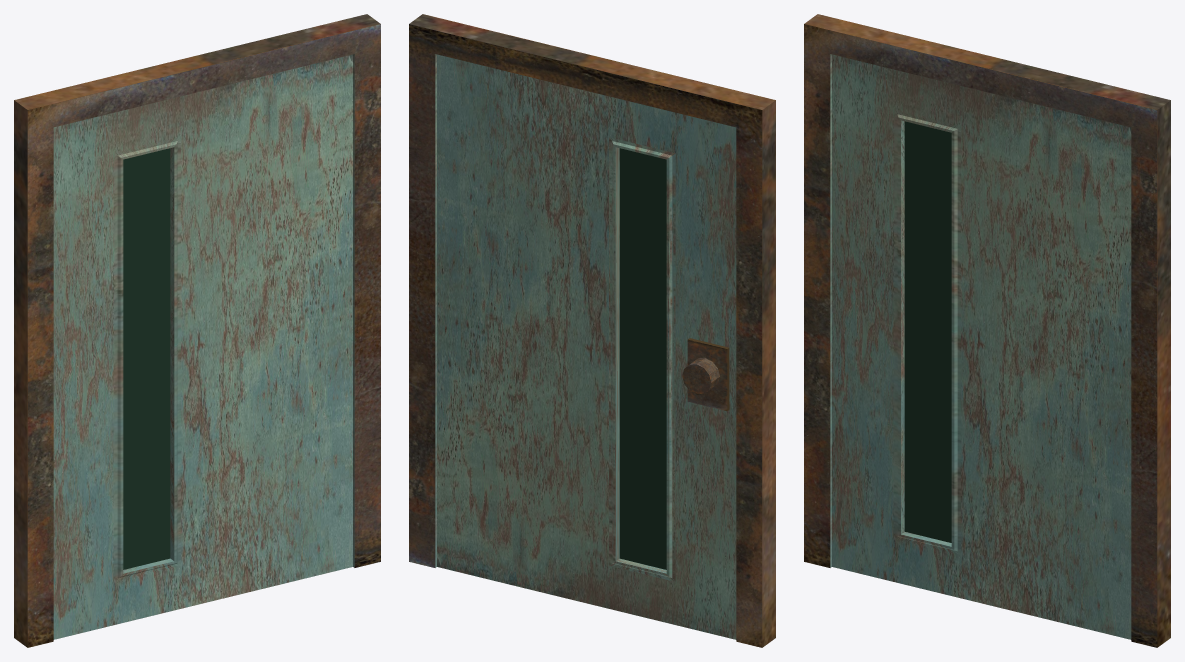
The model's file is DOORSCLOSEV1.fbx.
3 views of the same model, side by side, from view 1: azimuth 30°, elevation 25°; view 2: azimuth 150°, elevation 25°; view 3: azimuth 330°, elevation 25° (orthographic).
Parts seen in each view (by area): view 1: DOORSCLOSE; view 2: DOORSCLOSE; view 3: DOORSCLOSE.
Part boxes in pixels (x1,y1,x2,y2): DOORSCLOSE: (14,14,380,647); DOORSCLOSE: (409,14,775,647); DOORSCLOSE: (804,14,1170,647).
Bounding box in the file's own units: 583 × 849 × 70.93.
Materials: 3 (2 with a texture image).
